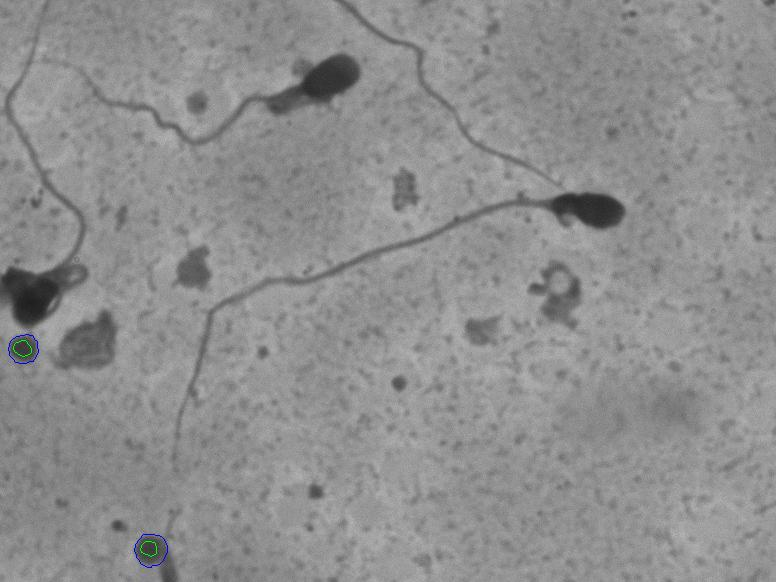Abnormal: (148, 178, 633, 486), (43, 40, 384, 173)
